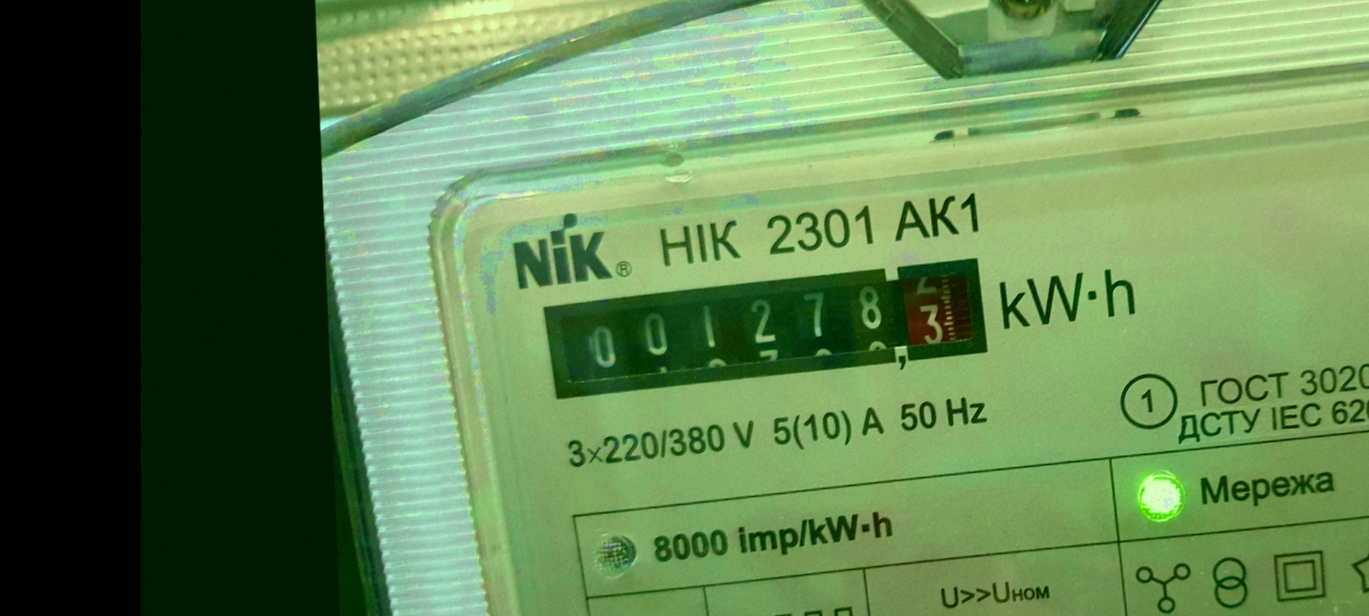0: (589, 320, 620, 369), (642, 309, 669, 356)
1: (700, 301, 719, 350)
2: (748, 296, 777, 343), (912, 274, 939, 296)
3: (917, 299, 945, 343)
7: (803, 289, 827, 338)
8: (856, 283, 884, 331)
screen: (523, 246, 1005, 408)
